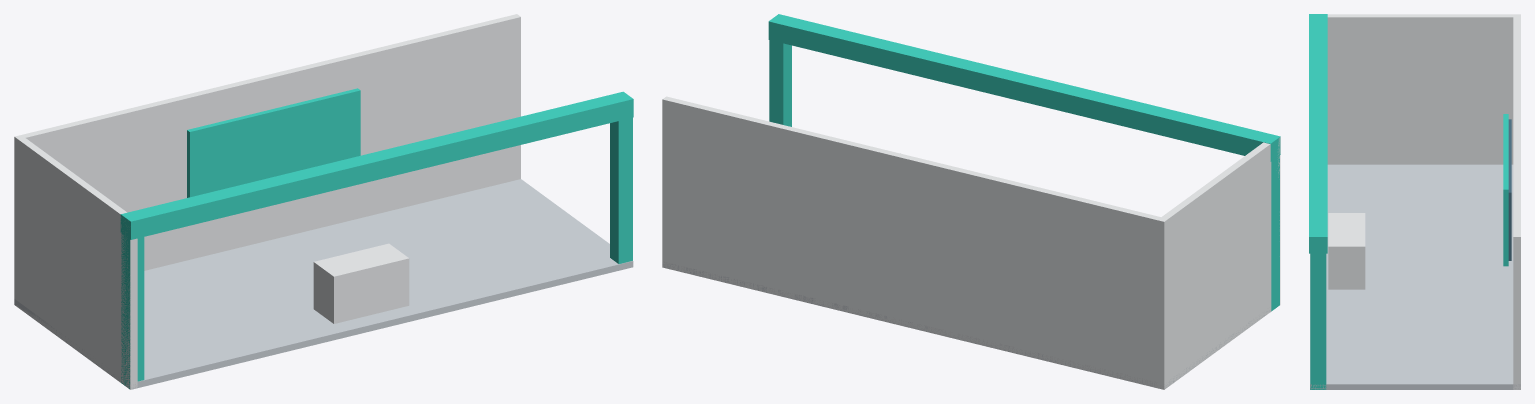
The picture shows the model from 3 angles, left to right: view 1: azimuth 30°, elevation 25°; view 2: azimuth 150°, elevation 25°; view 3: azimuth 270°, elevation 25°; orthographic projection. The views are drawn at different scales.
Parts seen in each view (by area): view 1: Exhibition Booth Concept; view 2: Exhibition Booth Concept; view 3: Exhibition Booth Concept.
Boxes of the visible parts, x1,y1,x2,y2 form: Exhibition Booth Concept: (14, 14, 633, 389); Exhibition Booth Concept: (662, 14, 1280, 389); Exhibition Booth Concept: (1309, 14, 1520, 389).
Bounding box in the file's own units: 10 × 3.2 × 4.02.
